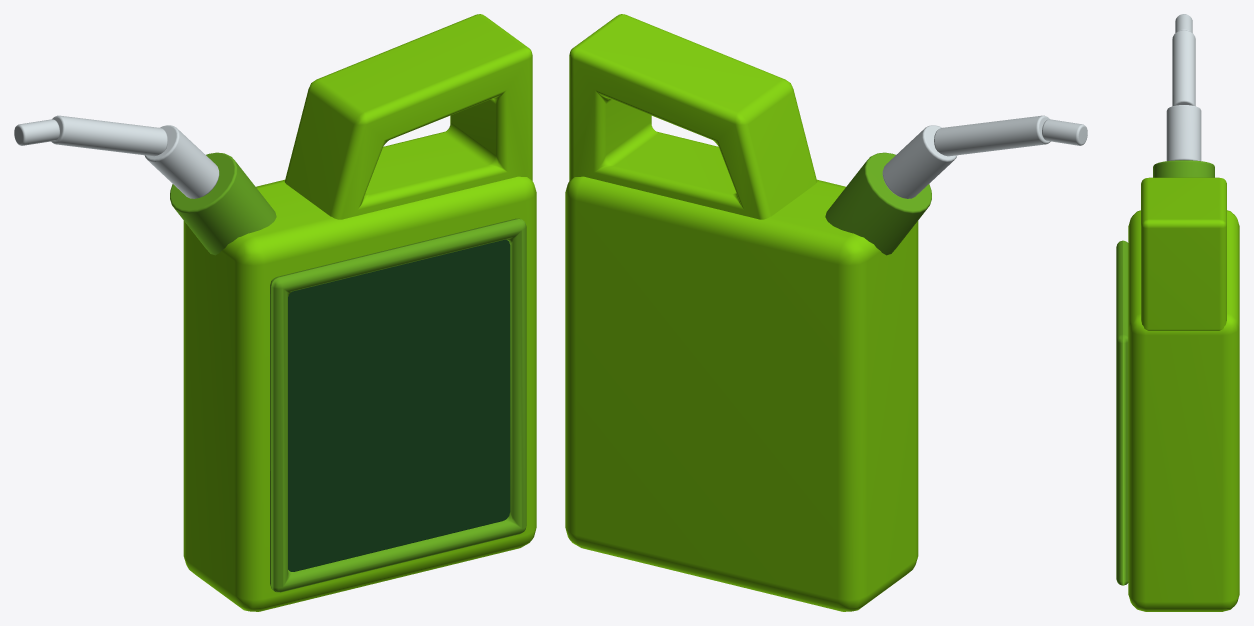
Rendered from PremiumRobotOil.fbx.
3 renders of one model, left to right at view 1: azimuth 30°, elevation 25°; view 2: azimuth 150°, elevation 25°; view 3: azimuth 270°, elevation 25°, orthographic. The views are drawn at different scales.
Parts seen in each view (by area): view 1: DarkGreenInsetPanel, LimePlasticBody, IntegratedHandle, RecessedPanelBorder, SpoutCollar, AngledPouringSpout, SilverSpoutBase, SpoutTip; view 2: LimePlasticBody, IntegratedHandle, SpoutCollar, AngledPouringSpout, SilverSpoutBase, SpoutTip; view 3: LimePlasticBody, IntegratedHandle, RecessedPanelBorder, SilverSpoutBase, AngledPouringSpout, SpoutCollar, SpoutTip.
Part boxes in pixels (x1,y1,x2,y2): DarkGreenInsetPanel: [288, 239, 510, 571]; LimePlasticBody: [183, 176, 536, 611]; IntegratedHandle: [284, 14, 532, 219]; RecessedPanelBorder: [270, 218, 526, 592]; SpoutCollar: [170, 152, 276, 255]; AngledPouringSpout: [51, 115, 167, 156]; SilverSpoutBase: [144, 125, 219, 198]; SpoutTip: [14, 119, 59, 145]; LimePlasticBody: [565, 176, 918, 611]; IntegratedHandle: [569, 14, 817, 219]; SpoutCollar: [825, 152, 931, 255]; AngledPouringSpout: [934, 115, 1050, 156]; SilverSpoutBase: [882, 125, 957, 198]; SpoutTip: [1042, 119, 1087, 145]; LimePlasticBody: [1128, 210, 1239, 611]; IntegratedHandle: [1141, 177, 1226, 330]; RecessedPanelBorder: [1116, 240, 1128, 585]; SilverSpoutBase: [1166, 105, 1201, 160]; AngledPouringSpout: [1172, 30, 1195, 106]; SpoutCollar: [1153, 160, 1214, 177]; SpoutTip: [1175, 14, 1192, 32].
Size of the model in its own units: 46.81 by 47.18 by 12.75.
